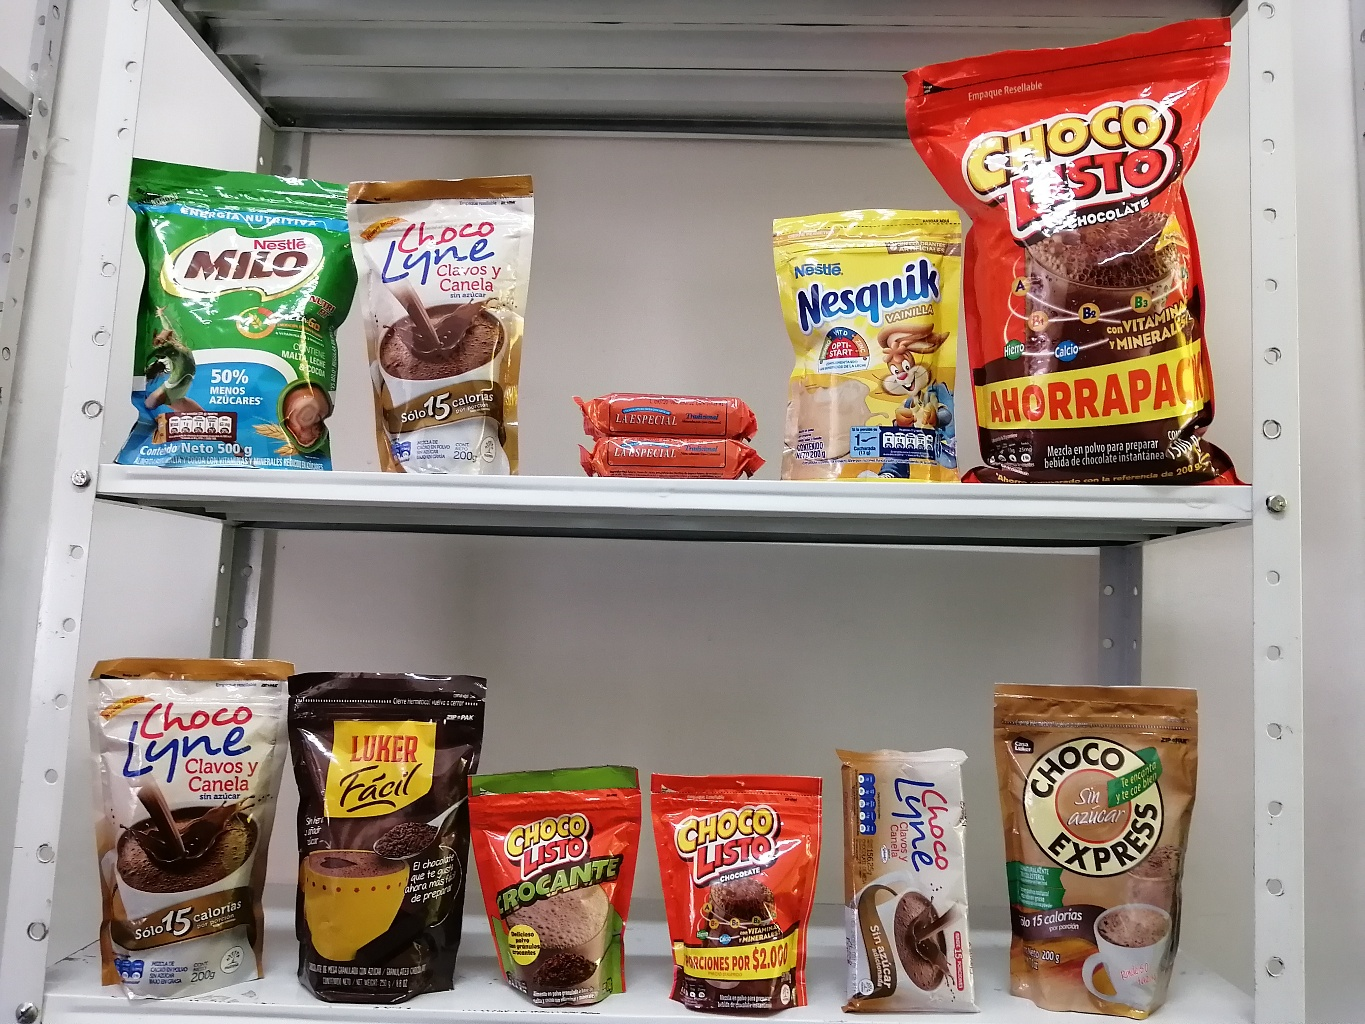COL0170102DYP10000: (457, 753, 662, 1006)
COL0170103DYP1,500: (908, 6, 1280, 492)
COL0170205DYP50000: (134, 141, 345, 471)
COL0170306DYP20000: (771, 199, 978, 485)
